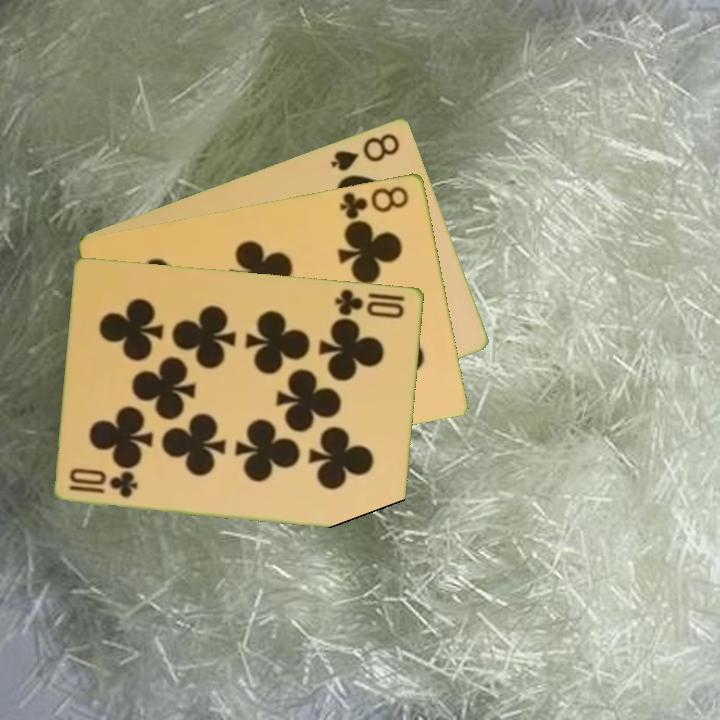10c: (332, 285, 408, 321), (66, 470, 141, 501)
8c: (336, 182, 412, 222)
8s: (327, 129, 403, 174)
